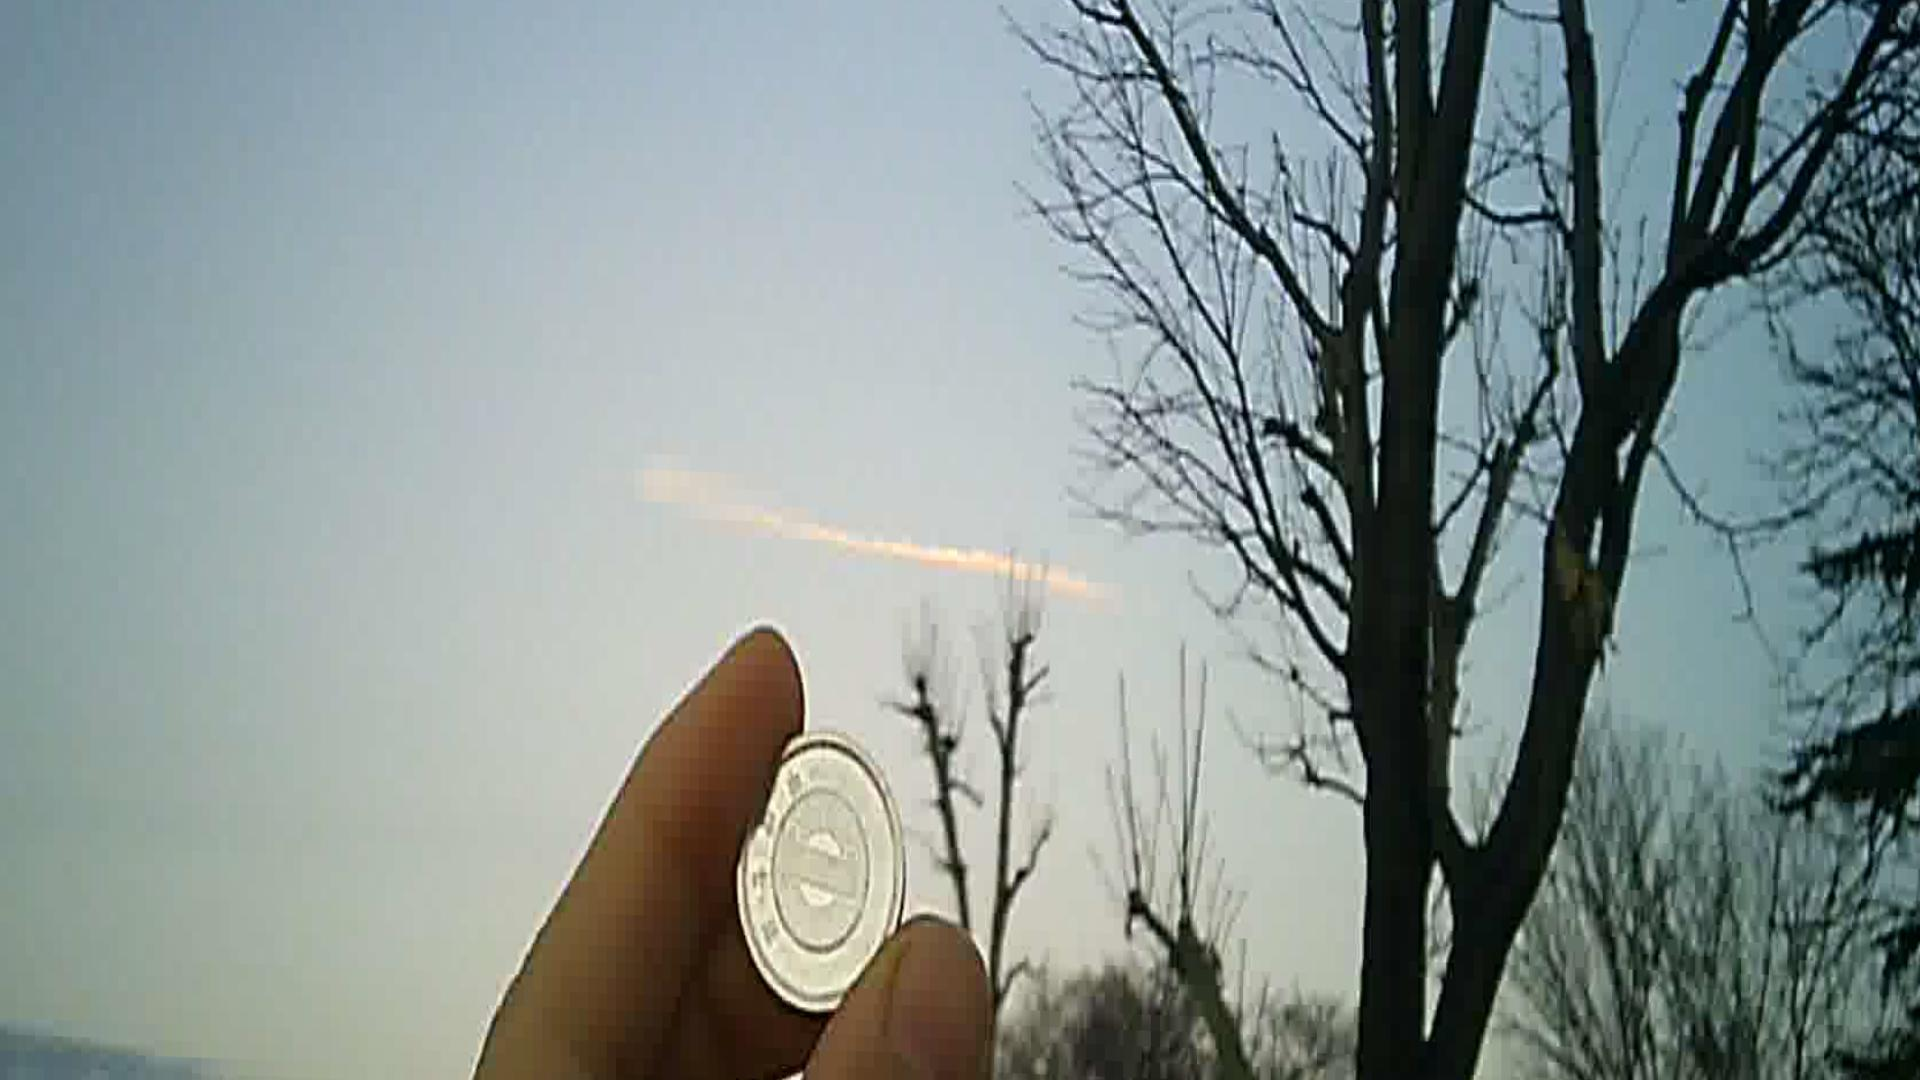1 Yen: (725, 720, 918, 1000)
